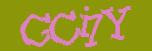7: (83, 15, 102, 45)
C: (48, 10, 80, 45)
G: (20, 14, 52, 45)
Y: (100, 7, 131, 39)
i: (78, 5, 89, 35)
